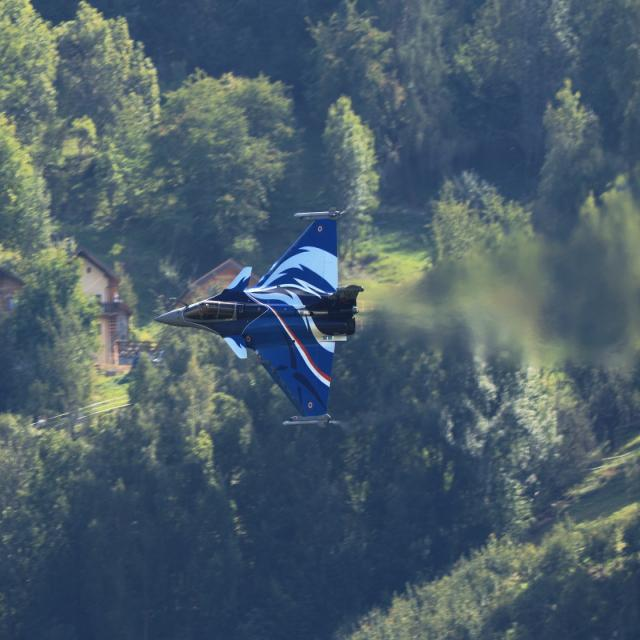MIL_Plane: (152, 206, 364, 429)
